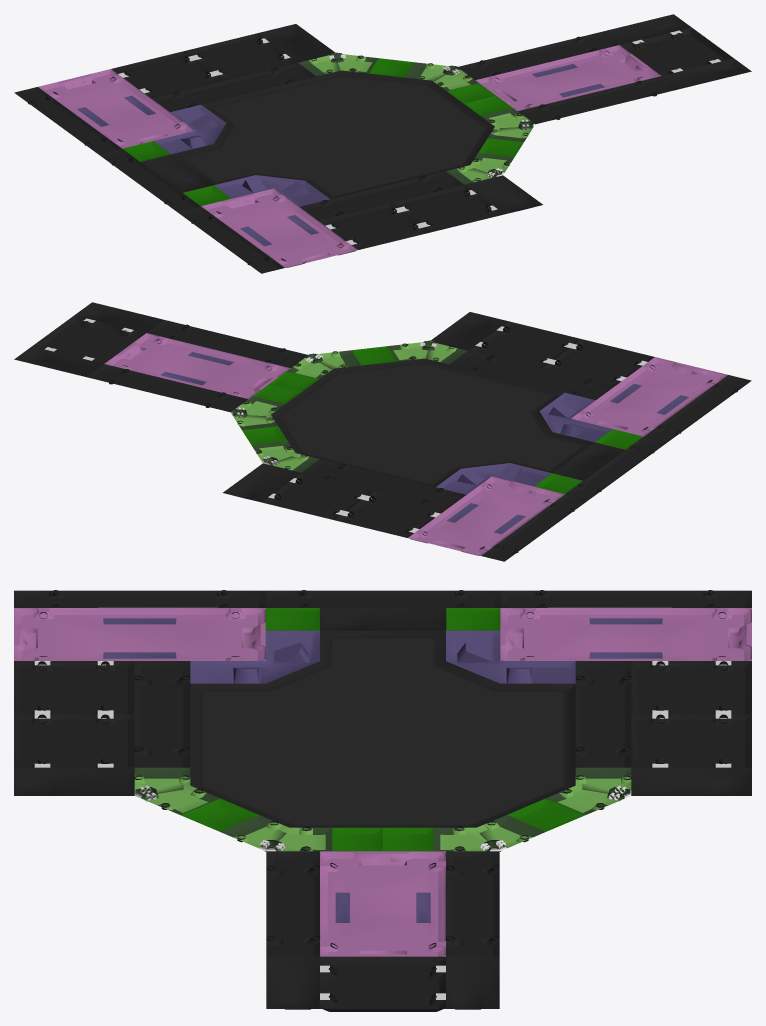
File: Building_B_Room_C_Ceiling_A.fbx
The picture shows the model from 3 angles, top to bottom: view 1: azimuth 30°, elevation 25°; view 2: azimuth 150°, elevation 25°; view 3: azimuth 270°, elevation 25°; orthographic projection. The views are drawn at different scales.
Visible parts, largest first — view 1: Geom_Building_B_Room_C_Ceiling_A_LOD00; view 2: Geom_Building_B_Room_C_Ceiling_A_LOD00; view 3: Geom_Building_B_Room_C_Ceiling_A_LOD00.
Part boxes in pixels (x1=…): Geom_Building_B_Room_C_Ceiling_A_LOD00: x1=14, y1=14, x2=751, y2=273; Geom_Building_B_Room_C_Ceiling_A_LOD00: x1=14, y1=302, x2=751, y2=561; Geom_Building_B_Room_C_Ceiling_A_LOD00: x1=14, y1=590, x2=751, y2=1011.
Size of what is drawn, in the model's own units: 3140 by 49.47 by 2340.
